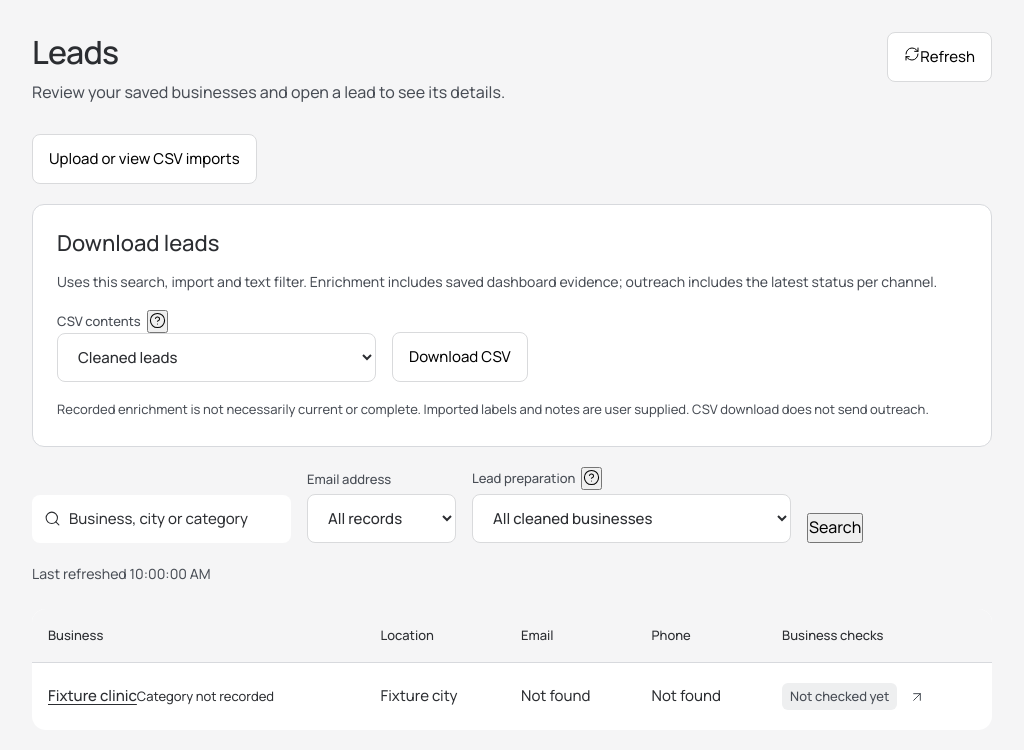
Test case: refresh failure preserves a marked stale snapshot; revoked access clears it
Click the button "Refresh": {"x": 940, "y": 57} [887, 32, 992, 82]
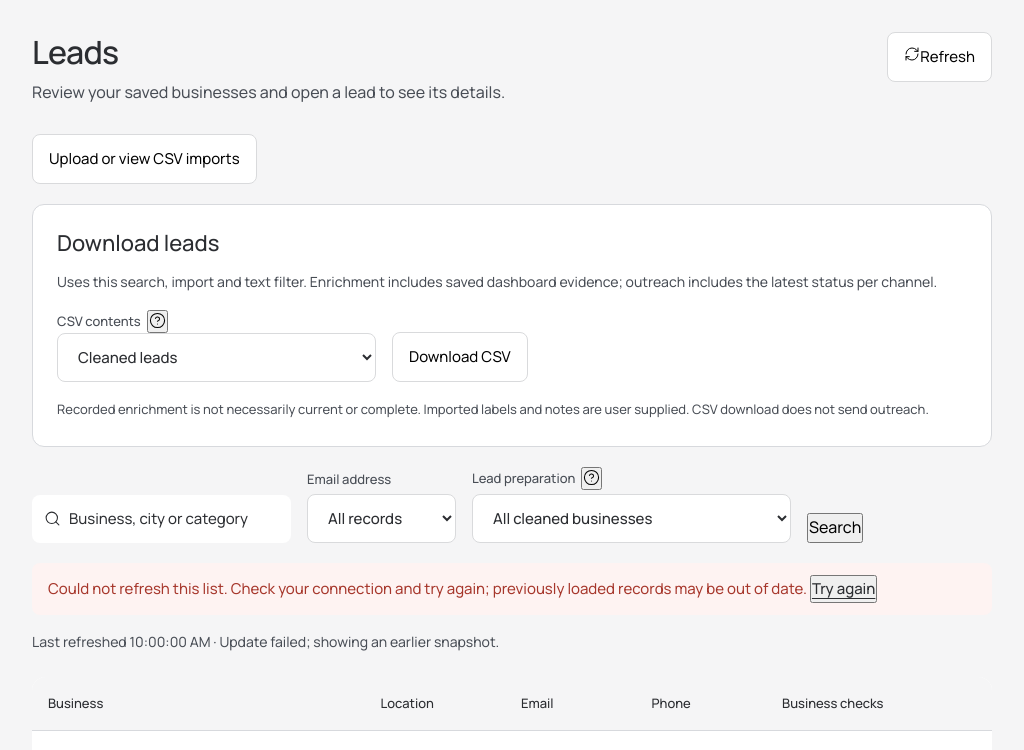
Expected: the text "earlier snapshot" is shown, [213, 632, 499, 651]
Click the button "Refresh": {"x": 940, "y": 57} [887, 32, 992, 82]
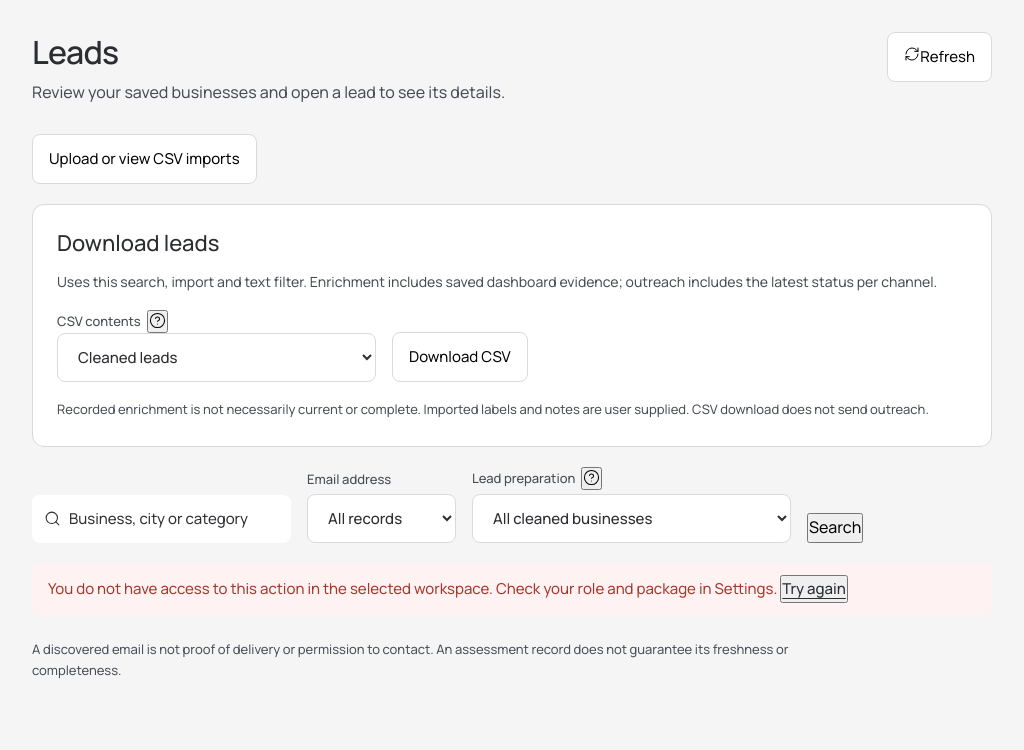
Expected: the text "You do not have access to this action" is shown, [48, 578, 777, 599]
